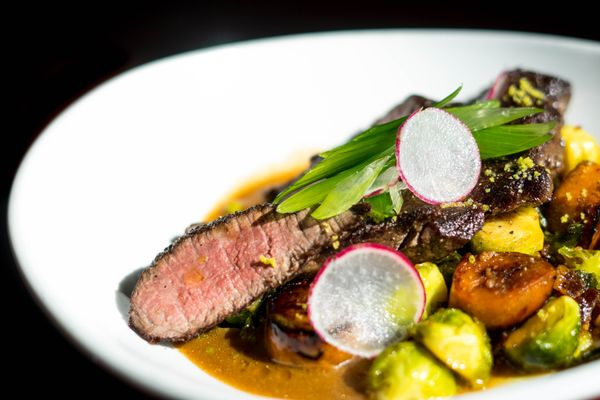curry: (499, 294, 592, 370)
